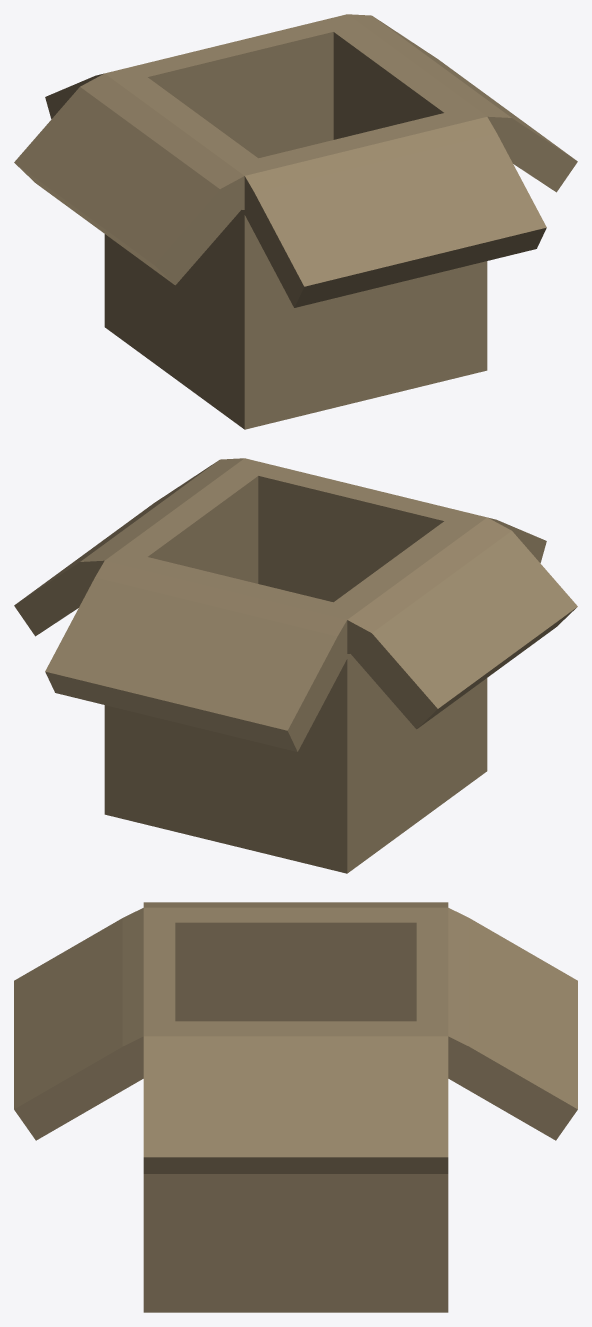
Rendered from Pappeske liten brett ned.fbx.
3 views of the same model, one above another, from view 1: azimuth 30°, elevation 25°; view 2: azimuth 150°, elevation 25°; view 3: azimuth 270°, elevation 25° (orthographic). The views are drawn at different scales.
Parts seen in each view (by area): view 1: pCube1; view 2: pCube1; view 3: pCube1.
Boxes of the visible parts, x1,y1,x2,y2 form: pCube1: (14,14,577,429); pCube1: (14,458,577,873); pCube1: (14,902,577,1312).
Bounding box in the file's own units: 165 × 94.27 × 175.
